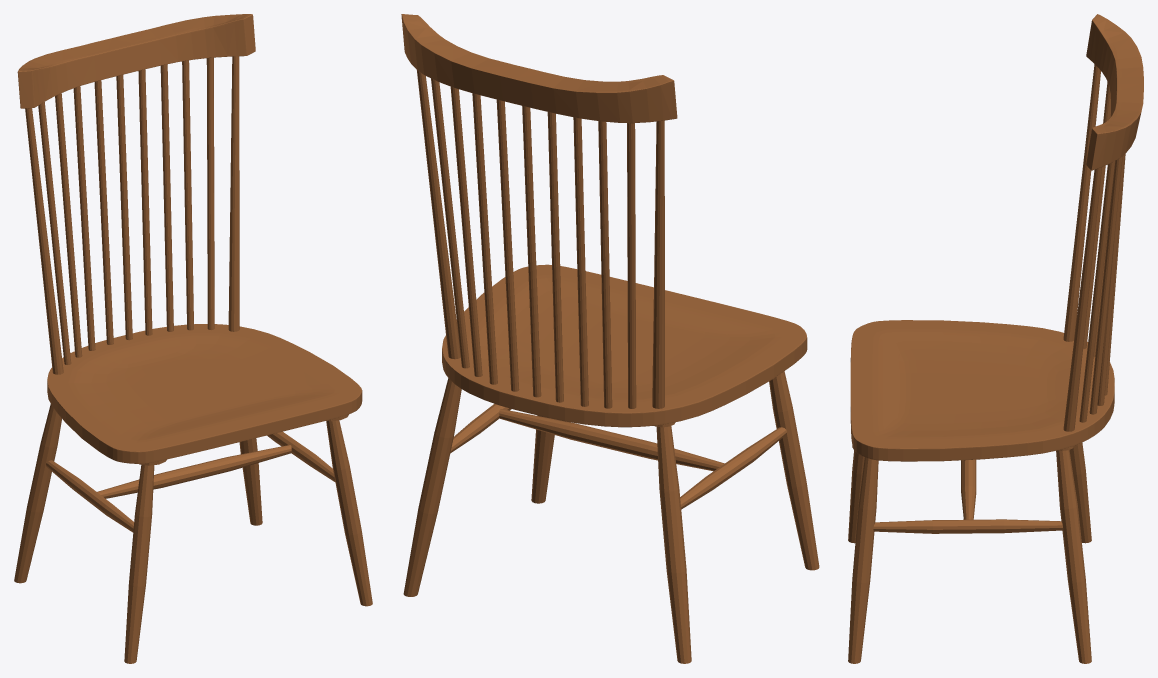
The model's file is chair-by-cmht-oculus-7ev-By_el6f.glb.
3 renders of one model, left to right at view 1: azimuth 30°, elevation 25°; view 2: azimuth 150°, elevation 25°; view 3: azimuth 270°, elevation 25°, orthographic. The views are drawn at different scales.
Parts seen in each view (by area): view 1: Node; view 2: Node; view 3: Node.
Part boxes in pixels (<box>): Node: <box>14,14,372,663</box>; Node: <box>401,14,819,663</box>; Node: <box>848,14,1143,663</box>.
Bounding box in the file's own units: 20.5 × 39.18 × 19.88.
